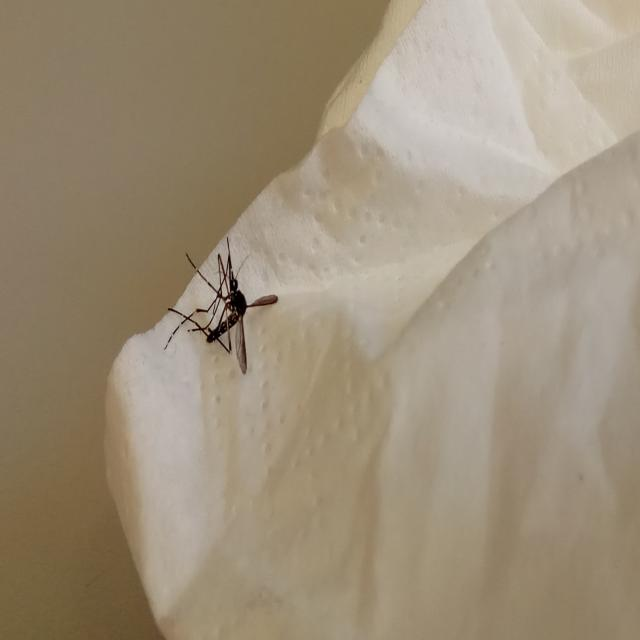albopictus: (163, 223, 284, 378)
